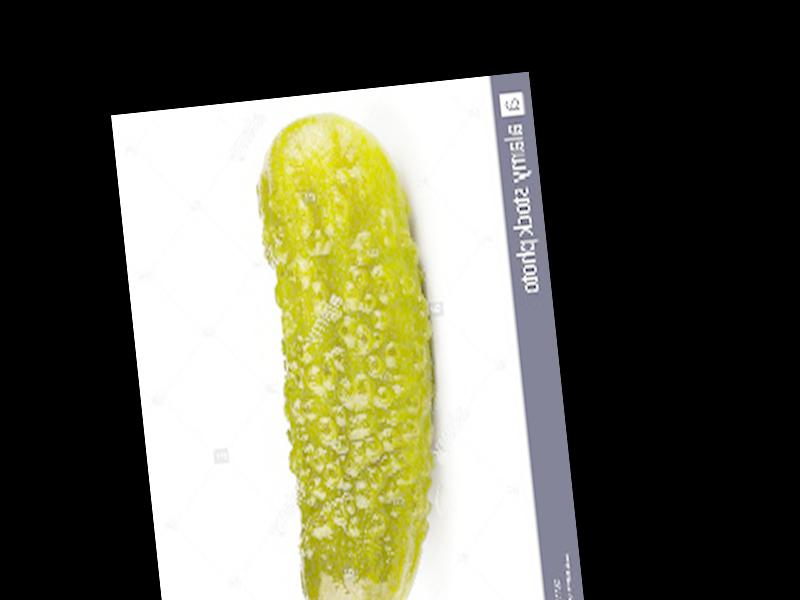Cucumber: (249, 104, 462, 600)
